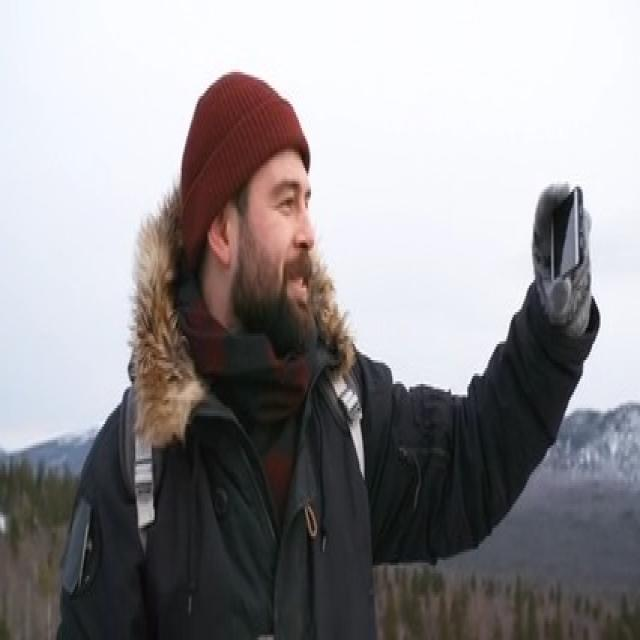Jacket_Wearer: (77, 259, 599, 640)
Person: (53, 73, 590, 640)
